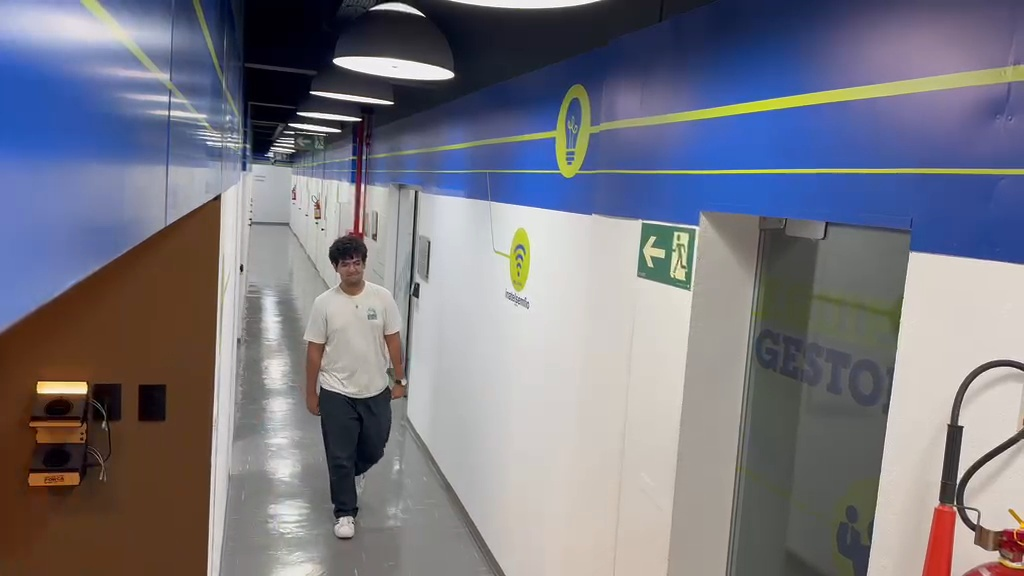person: (303, 234, 405, 541)
